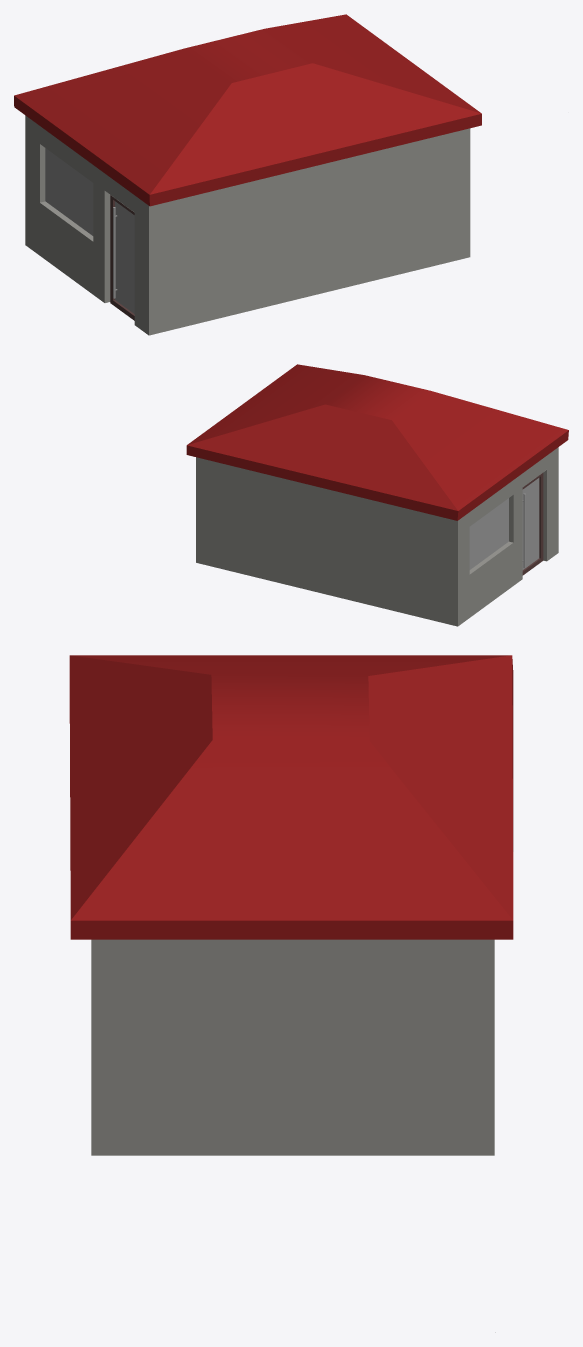
Rendered from tabakladen.fbx.
3 views of the same model, one above another, from view 1: azimuth 30°, elevation 25°; view 2: azimuth 150°, elevation 25°; view 3: azimuth 270°, elevation 25° (orthographic). The views are drawn at different scales.
Parts seen in each view (by area): view 1: house, roof, window2, pCube1, door1; view 2: house, roof, window2, pCube1, door1; view 3: roof, house.
Boxes of the visible parts, left/top/right/bottom form: house: left=25, top=115, right=470, bottom=335; roof: left=14, top=14, right=481, bottom=206; window2: left=45, top=148, right=93, bottom=235; pCube1: left=115, top=201, right=134, bottom=313; door1: left=110, top=195, right=134, bottom=320; house: left=196, top=447, right=558, bottom=626; roof: left=186, top=364, right=568, bottom=520; window2: left=469, top=498, right=508, bottom=569; pCube1: left=522, top=478, right=539, bottom=569; door1: left=522, top=473, right=543, bottom=575; roof: left=69, top=655, right=513, bottom=939; house: left=91, top=939, right=494, bottom=1155.
Size of the model in its own units: 10.27 by 3.5 by 4.4.
